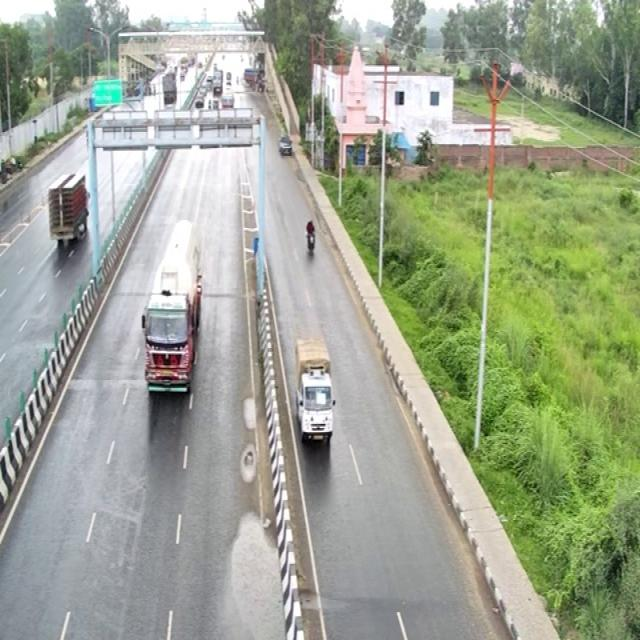car: (291, 327, 339, 448)
